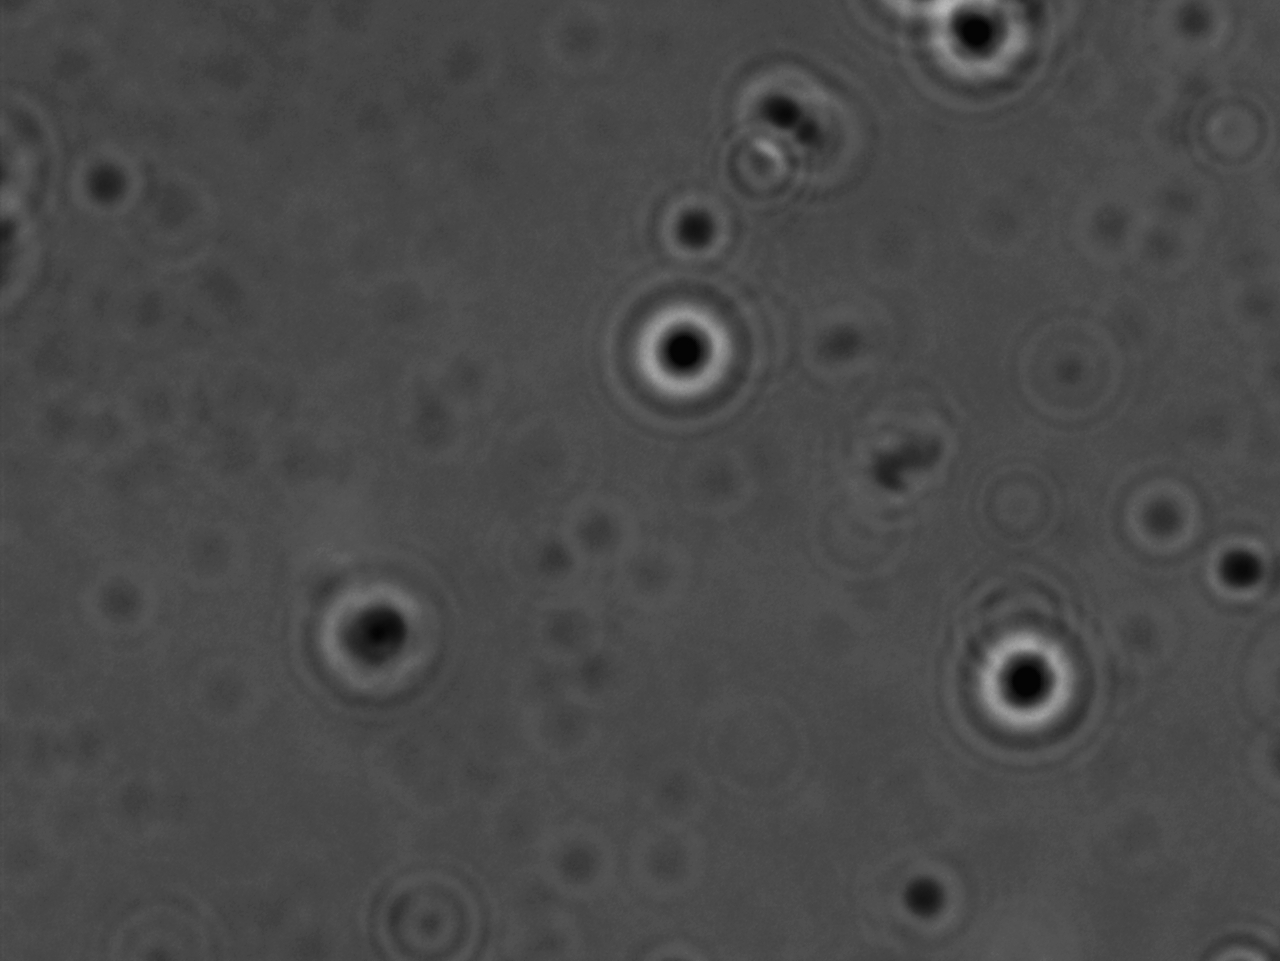depth:-24: (589, 272, 760, 433), (956, 619, 1106, 759)
